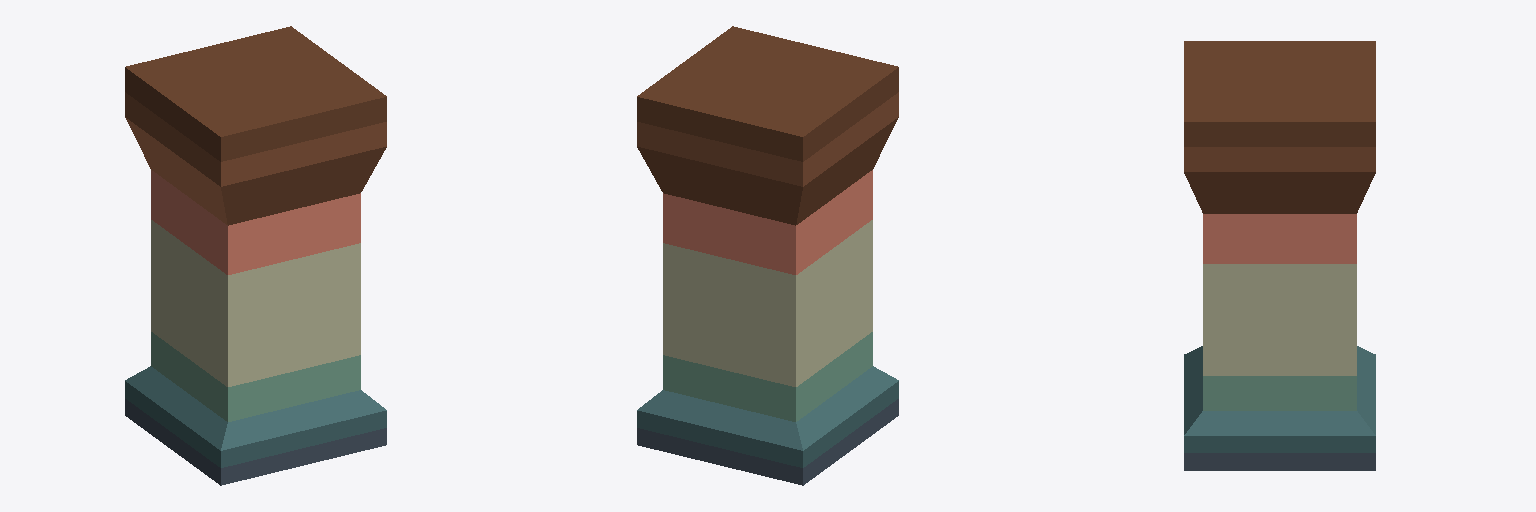
3 views of the same model, side by side, from view 1: azimuth 30°, elevation 25°; view 2: azimuth 150°, elevation 25°; view 3: azimuth 270°, elevation 25° (orthographic).
Visible parts, largest first — view 1: Cube_Cube.001; view 2: Cube_Cube.001; view 3: Cube_Cube.001.
Boxes of the visible parts, x1=… form: Cube_Cube.001: x1=125, y1=26, x2=386, y2=485; Cube_Cube.001: x1=637, y1=26, x2=898, y2=485; Cube_Cube.001: x1=1184, y1=41, x2=1375, y2=470.
Bounding box in the file's own units: 1 × 2 × 1.
Materials: 1 (1 with a texture image).